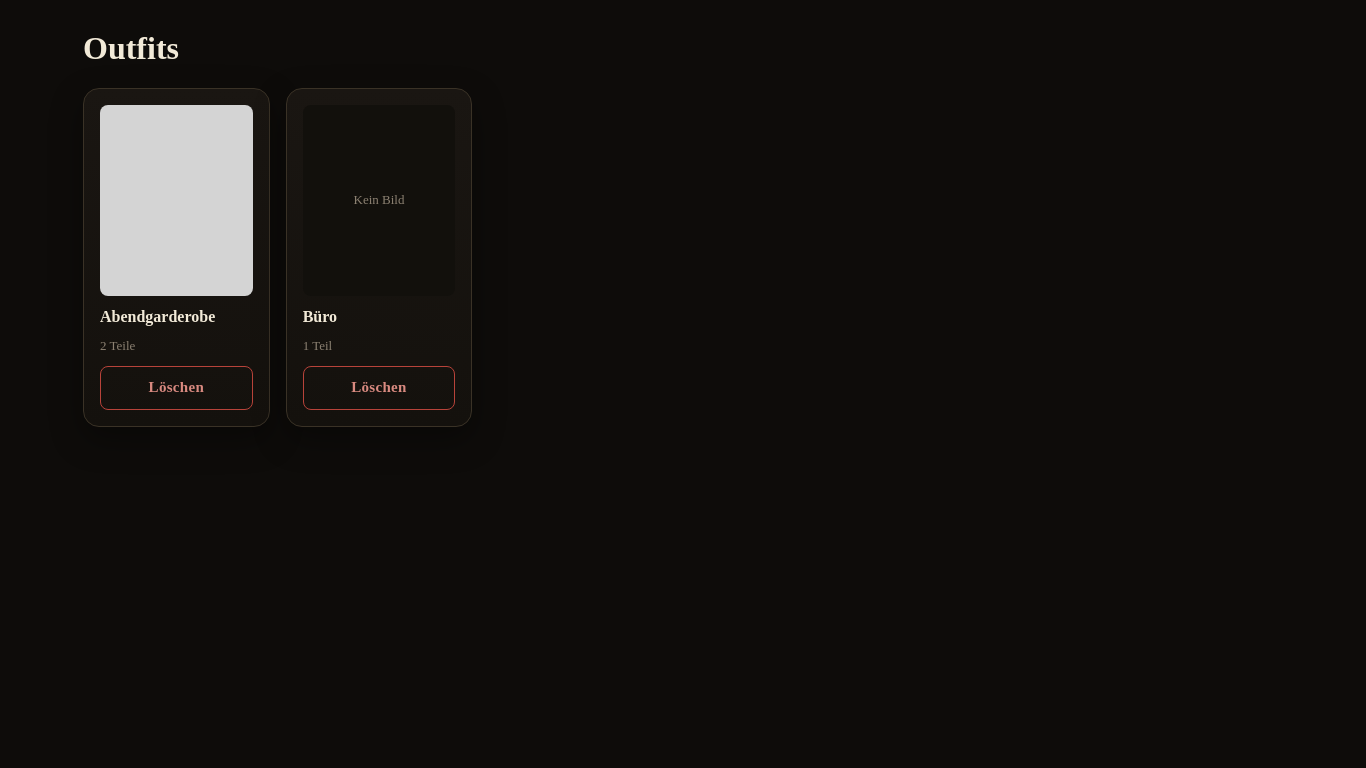
Scenario: Outfits › öffnet die Detailansicht eines Outfits
The width and height of the screenshot is (1366, 768).
Click the button with aria-label "Abendgarderobe öffnen": (176, 229) [100, 105, 253, 354]
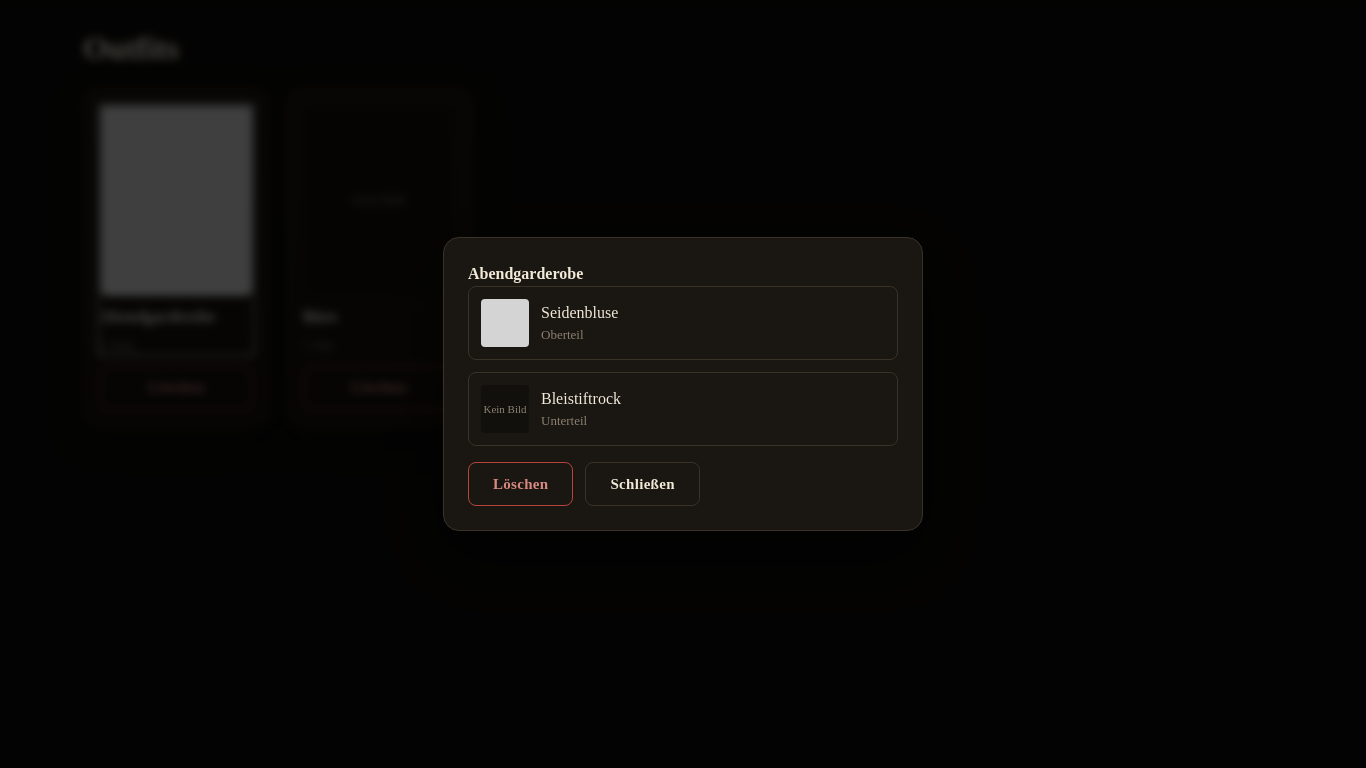
Check: the dialog named "Abendgarderobe Details" is shown, box [443, 237, 923, 531]
Check: the text "Seidenbluse" is shown, box [541, 304, 618, 321]
Check: the text "Bleistiftrock" is shown, box [541, 390, 621, 407]
